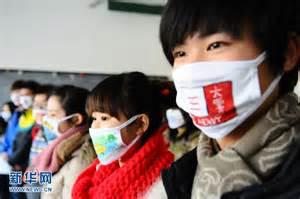OK: (174, 25, 280, 137), (91, 110, 148, 165), (45, 106, 81, 143), (33, 98, 54, 125), (21, 91, 38, 111), (12, 91, 26, 106), (3, 106, 14, 121)
